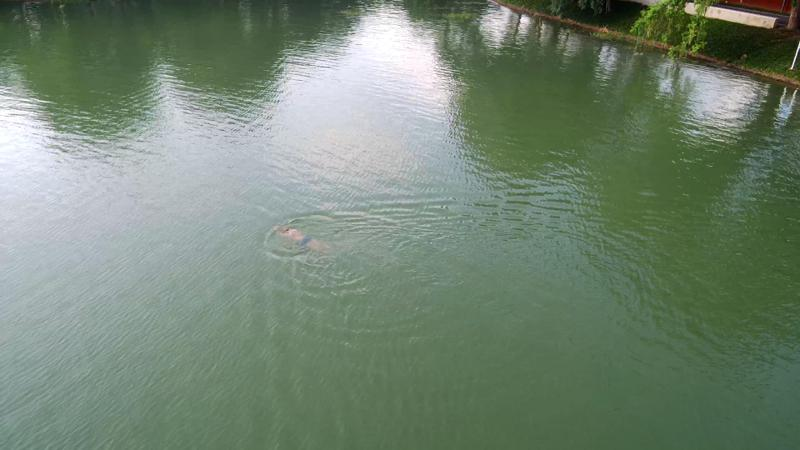swimmers: (272, 224, 327, 253)
